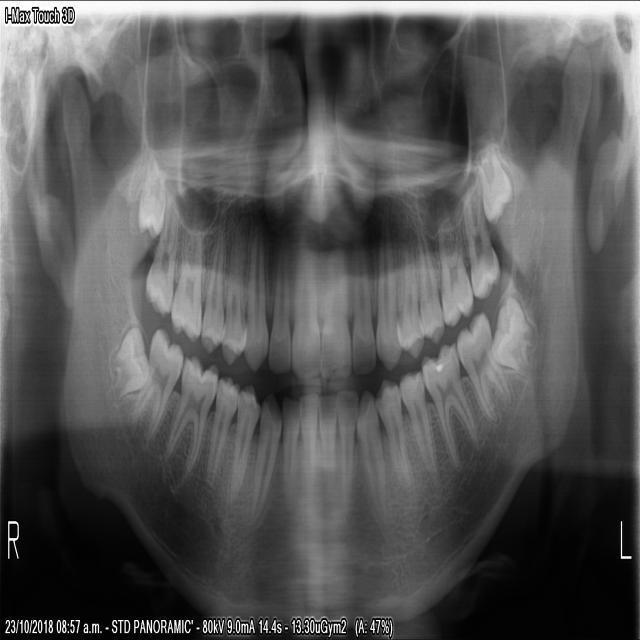LCD: (355, 385, 390, 526)
LCU: (374, 203, 400, 375)
LID: (336, 386, 357, 518), (317, 392, 337, 504)
LIU: (319, 228, 351, 381), (350, 224, 376, 377)
LMD: (419, 339, 480, 471), (455, 307, 512, 425), (491, 291, 536, 378)
LMU: (435, 204, 475, 332), (461, 180, 500, 303), (475, 136, 513, 226)
LPMD: (374, 375, 417, 498), (397, 367, 440, 489)
LPMU: (411, 209, 444, 345), (399, 220, 424, 361)
RCD: (248, 385, 279, 527)
RCU: (241, 217, 266, 375)
RID: (297, 389, 317, 503), (280, 391, 298, 514)
RIU: (290, 227, 319, 379), (266, 233, 290, 377)
RMD: (160, 350, 218, 491), (127, 322, 183, 443), (105, 321, 149, 405)
RMU: (141, 194, 179, 318), (167, 214, 202, 344), (135, 164, 166, 240)
RPMD: (223, 381, 258, 506), (203, 371, 238, 490)
RPMU: (219, 213, 248, 369), (198, 218, 225, 357)
